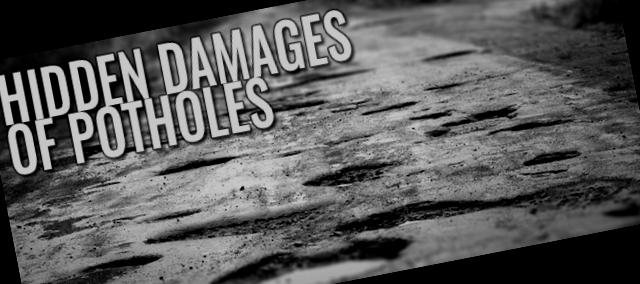Pothole: (338, 144, 640, 279), (201, 219, 414, 284), (141, 192, 336, 262), (300, 152, 413, 206), (239, 56, 376, 100), (28, 246, 168, 284), (210, 90, 332, 130), (427, 100, 526, 148), (156, 144, 248, 186), (510, 142, 586, 178), (418, 37, 488, 69), (358, 92, 427, 120), (405, 103, 459, 129)
